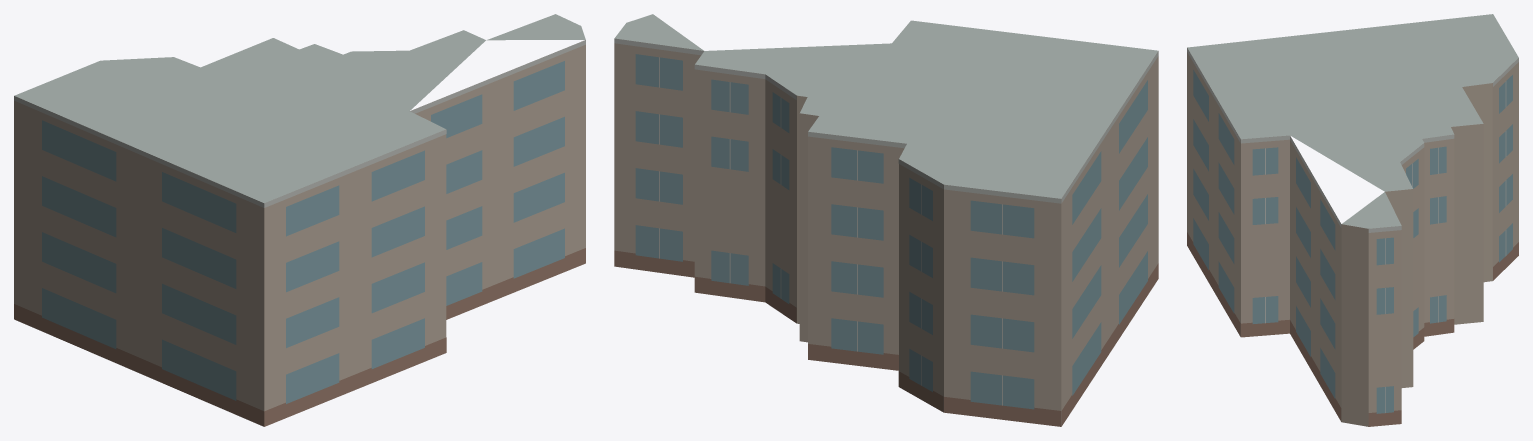
The model's file is survey-upis-32652972.glb.
The picture shows the model from 3 angles, left to right: view 1: azimuth 30°, elevation 25°; view 2: azimuth 150°, elevation 25°; view 3: azimuth 270°, elevation 25°; orthographic projection. The views are drawn at different scales.
Parts seen in each view (by area): view 1: survey-upis-32652972.tmp; view 2: survey-upis-32652972.tmp; view 3: survey-upis-32652972.tmp.
Part boxes in pixels (x1,y1,x2,y2): survey-upis-32652972.tmp: (14, 14, 585, 426); survey-upis-32652972.tmp: (614, 14, 1158, 426); survey-upis-32652972.tmp: (1187, 14, 1518, 426).
Size of the model in its own units: 26.75 by 11.5 by 17.46.
